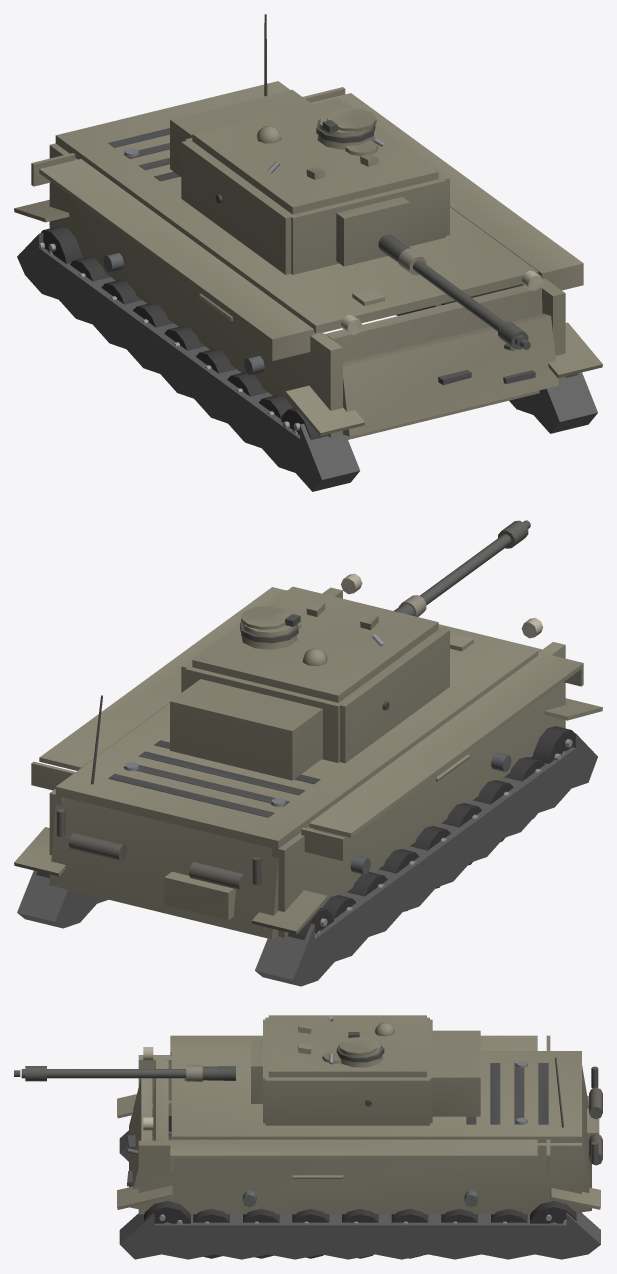
The model's file is conqueror.glb.
3 renders of one model, top to bottom at view 1: azimuth 30°, elevation 25°; view 2: azimuth 150°, elevation 25°; view 3: azimuth 270°, elevation 25°, orthographic. The views are drawn at different scales.
Parts seen in each view (by area): view 1: hullSide, hullTop, tracks, turretRoof, lowerPlate, turretFront, glacis, turretSide, mantlet, barrel, wheel8; view 2: hullSide, hullTop, tracks, hullRear, turretRoof, turretFront, turretSide, turretRear, barrel, wheel7, glacis; view 3: hullSide, tracks, hullTop, turretRoof, turretSide, turretFront, barrel, hullRear, lowerPlate, glacis, wheel17, wheel16 (+9 smaller).
Part boxes in pixels (x1,y1,x2,y2): hullSide: (31, 87, 583, 437); hullTop: (55, 81, 538, 333); tracks: (14, 199, 602, 491); turretRoof: (192, 98, 438, 214); lowerPlate: (343, 313, 558, 436); turretFront: (170, 89, 445, 274); glacis: (325, 285, 542, 439); turretSide: (181, 102, 449, 274); mantlet: (336, 197, 409, 266); barrel: (378, 234, 530, 349); wheel8: (39, 226, 83, 263); hullSide: (31, 573, 583, 937); hullTop: (55, 628, 538, 849); tracks: (14, 698, 602, 986); hullRear: (49, 695, 278, 939); turretRoof: (192, 586, 438, 702); turretFront: (170, 626, 445, 780); turretSide: (181, 590, 449, 763); turretRear: (185, 664, 339, 762); barrel: (394, 520, 530, 616); wheel7: (531, 726, 574, 763); glacis: (438, 624, 541, 652); hullSide: (138, 1035, 581, 1214); tracks: (117, 1094, 600, 1259); hullTop: (171, 1051, 581, 1142); turretRoof: (268, 1015, 426, 1077); turretSide: (265, 1017, 429, 1125); turretFront: (263, 1019, 480, 1123); barrel: (14, 1065, 235, 1081); hullRear: (555, 1057, 602, 1212); lowerPlate: (129, 1078, 152, 1209); glacis: (127, 1059, 203, 1186); wheel17: (530, 1201, 576, 1224); wheel16: (144, 1201, 190, 1224).
Size of the model in its own units: 4.48 by 3.17 by 9.3.
